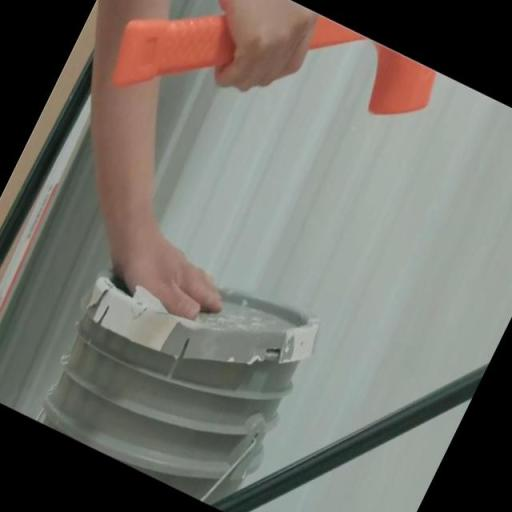mallet: (98, 0, 443, 214)
